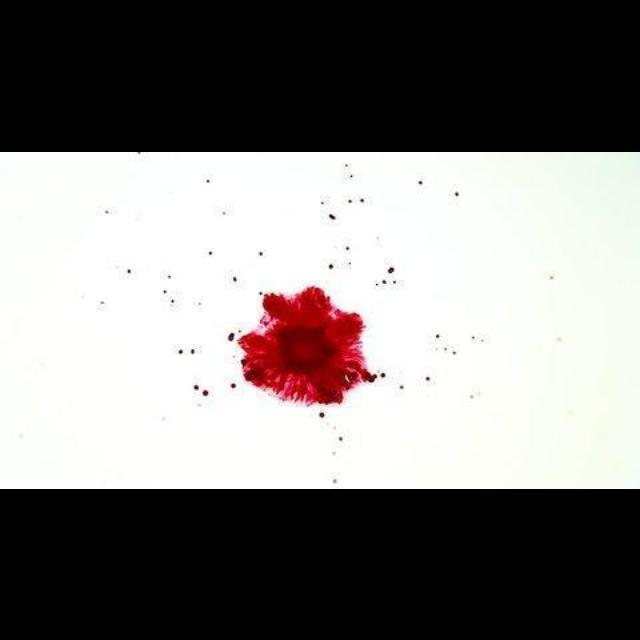blood: (229, 286, 380, 404)
